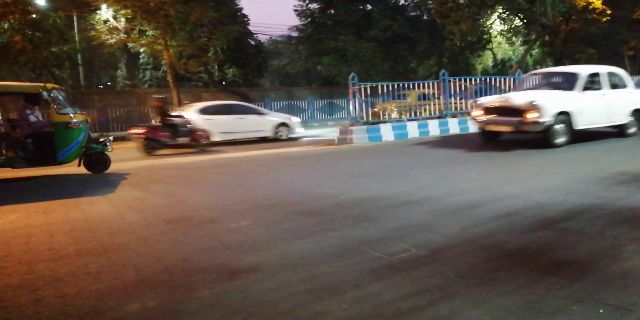Autorickshaw: (8, 78, 120, 173)
Car: (472, 62, 635, 144)
Motorbike: (138, 95, 211, 157)
